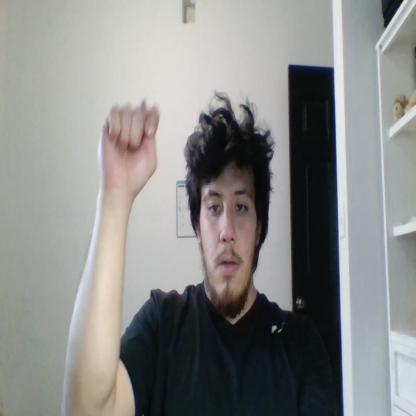T: (98, 99, 160, 195)
